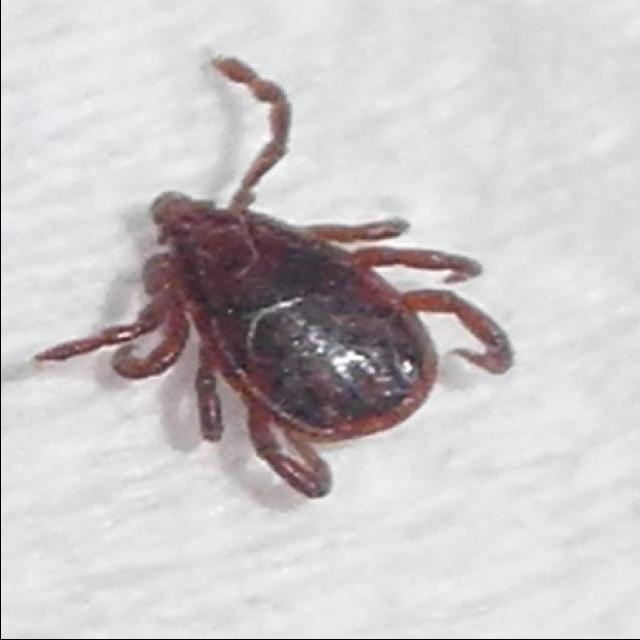Rhipicephalus Sanguineus-M: (31, 57, 513, 502)
